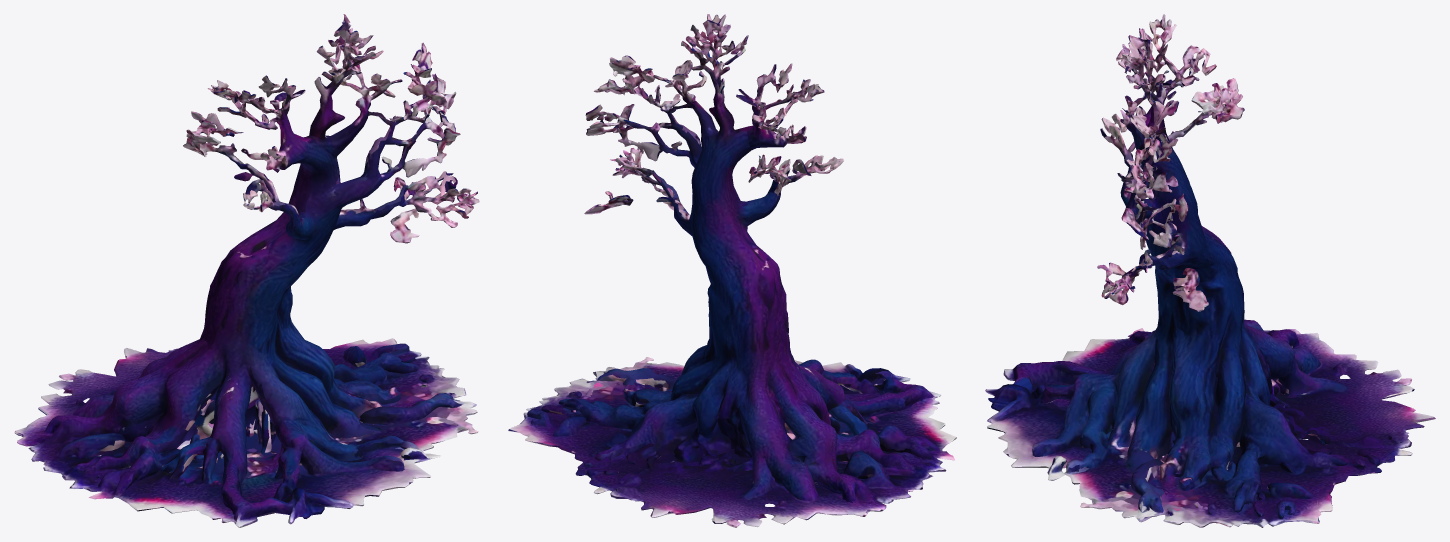
The model's file is sea-root-west-generated-2026-05-17T19-37-48-870Z.medium.glb.
The picture shows the model from 3 angles, left to right: view 1: azimuth 30°, elevation 25°; view 2: azimuth 150°, elevation 25°; view 3: azimuth 270°, elevation 25°; orthographic projection. The views are drawn at different scales.
Parts seen in each view (by area): view 1: temp_mesh.ply; view 2: temp_mesh.ply; view 3: temp_mesh.ply.
Boxes of the visible parts, x1,y1,x2,y2 form: temp_mesh.ply: (14,14,479,527); temp_mesh.ply: (508,14,956,527); temp_mesh.ply: (985,14,1435,527).
Size of the model in its own units: 1.97 by 1.92 by 1.87.
Materials: 1 (1 with a texture image).
